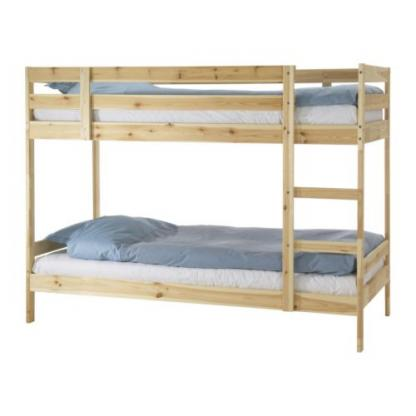Bed: (19, 49, 396, 356)
